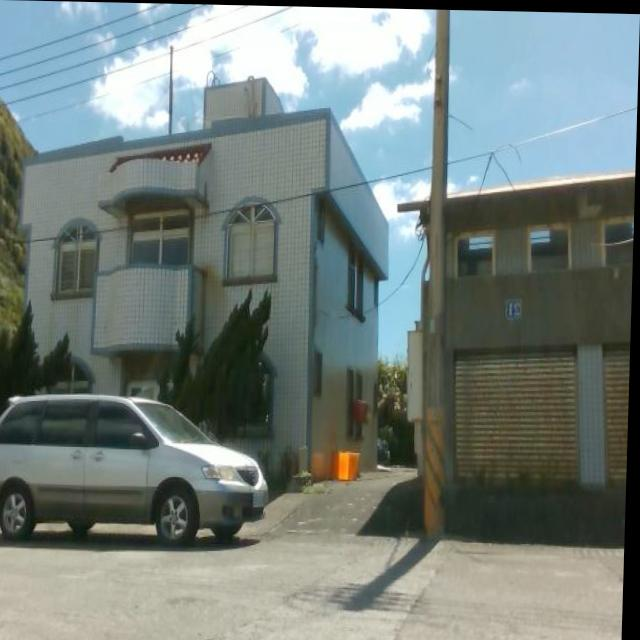pollute: (333, 448, 367, 483)
